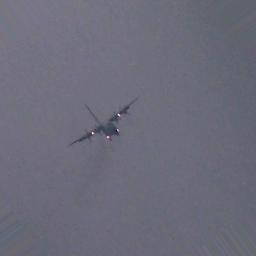Airplane: (69, 96, 140, 147)
